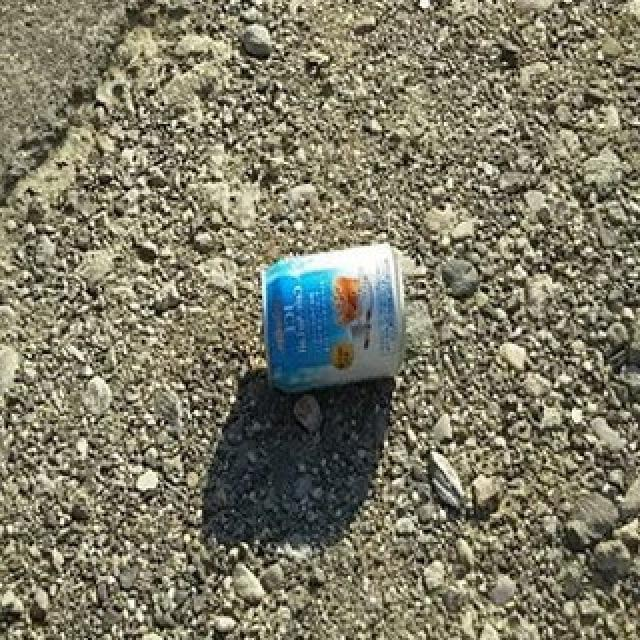can: (260, 241, 406, 395)
